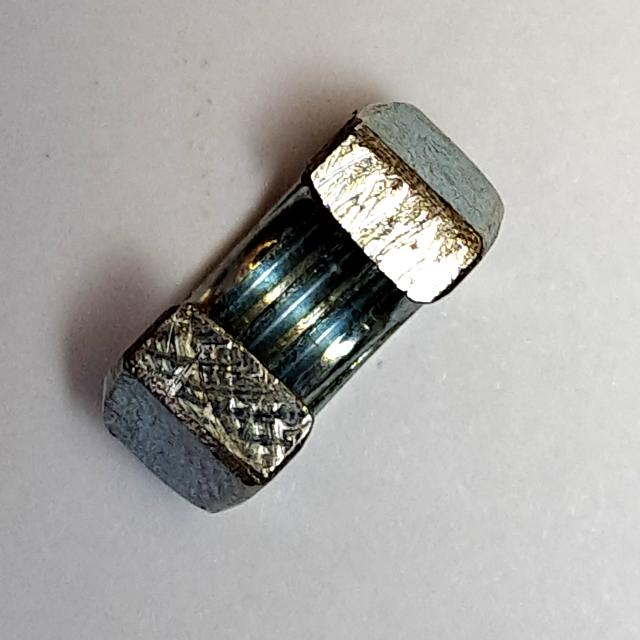Side-Fracture: (94, 89, 514, 533)
